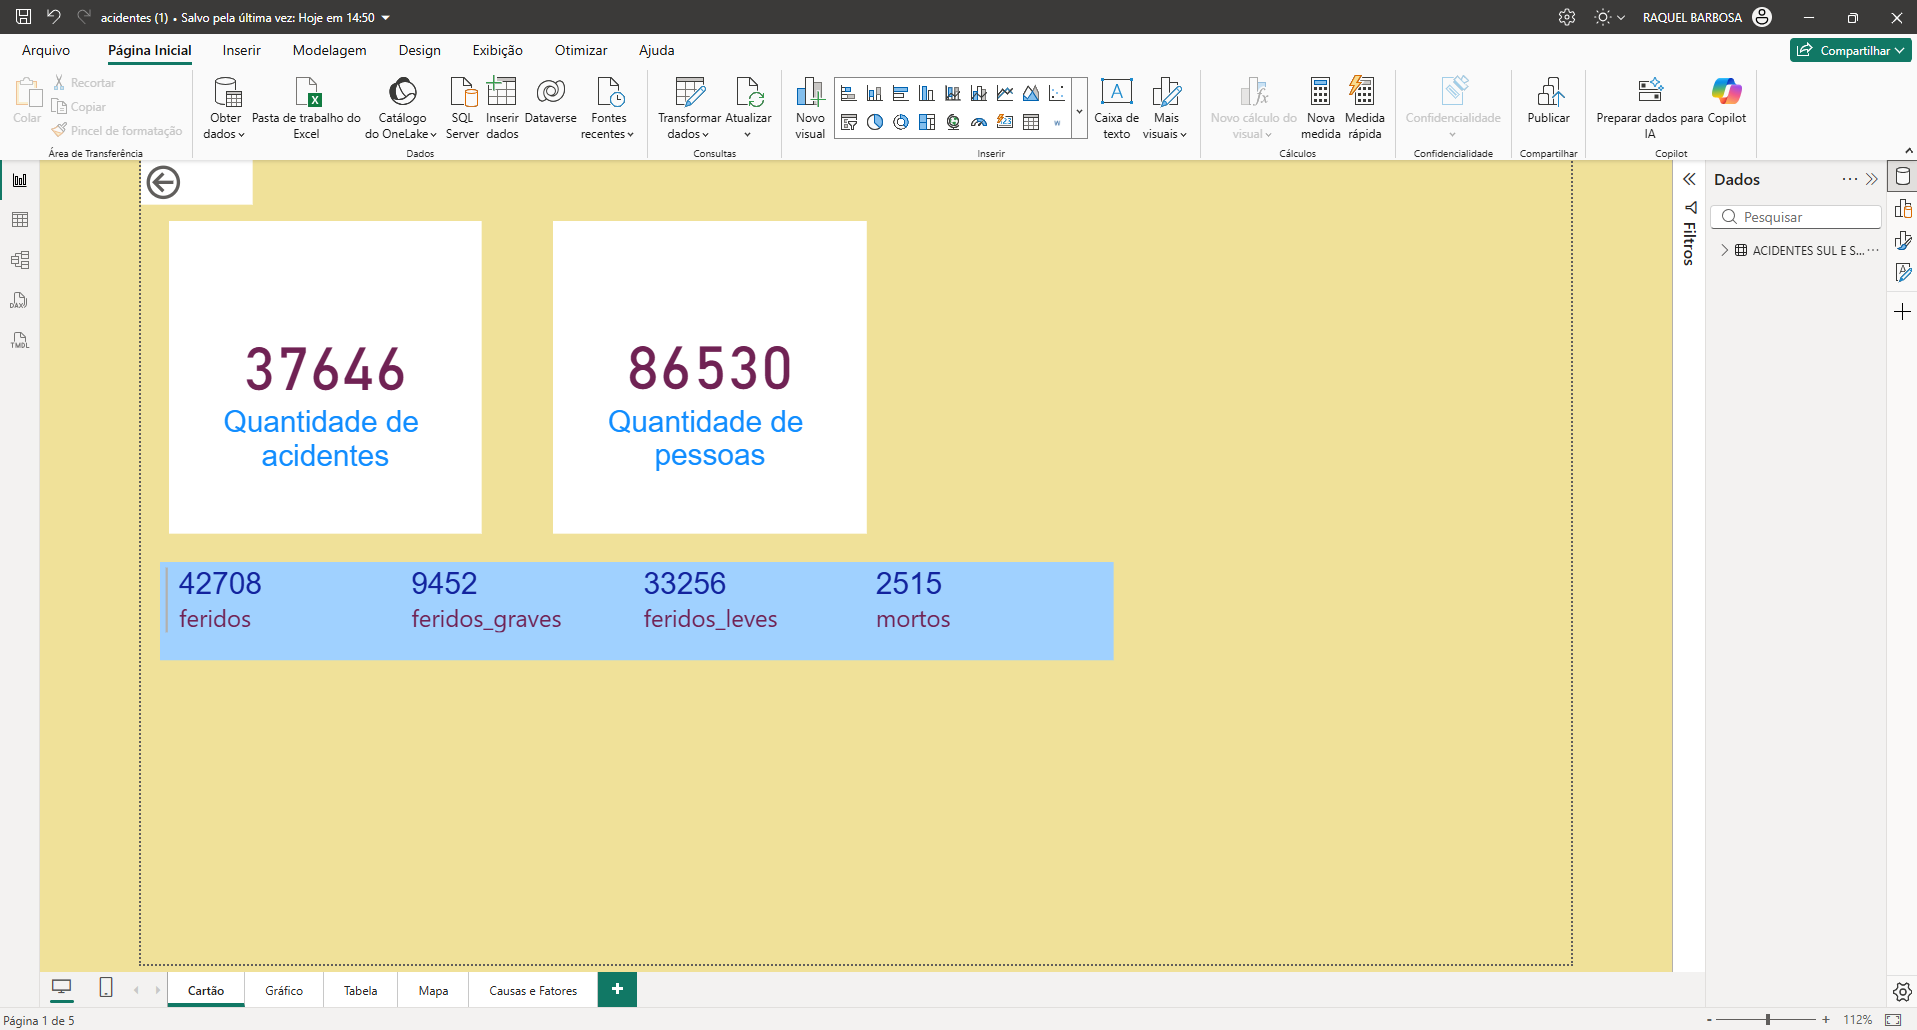

The dashboard page shown, as its layout file describes it:
{"tool":"powerbi","page":{"name":"Cartão","canvas":[1280,720],"ordinal":0},"visuals":[{"type":"card","fields":{"Values":["ACIDENTES SUL E SUDESTE.QT_ACID"]},"box":[24.9,54.9,280,280],"z":0},{"type":"actionButton","box":[0,0,100,40],"z":1000},{"type":"card","fields":{"Values":["Sum(ACIDENTES SUL E SUDESTE.pessoas)"]},"box":[369.3,54.4,281,279.5],"z":2000},{"type":"multiRowCard","fields":{"Values":["Sum(ACIDENTES SUL E SUDESTE.feridos)","Sum(ACIDENTES SUL E SUDESTE.feridos_graves)","Sum(ACIDENTES SUL E SUDESTE.feridos_leves)","Sum(ACIDENTES SUL E SUDESTE.mortos)"]},"box":[17,360,854,88],"z":3000}]}

Visuals, with their boxes on the page's 1280x720 design canvas (x1, y1, x2, y2). These are canvas units, not pixel positions in the 1917x1030 screenshot, which may show the page scaled, cropped or inside an application window:
card - ACIDENTES SUL E SUDESTE.QT_ACID: crop(25, 55, 305, 335)
actionButton: crop(0, 0, 100, 40)
card - Sum(ACIDENTES SUL E SUDESTE.pessoas): crop(369, 54, 650, 334)
multiRowCard - Sum(ACIDENTES SUL E SUDESTE.feridos) x Sum(ACIDENTES SUL E SUDESTE.feridos_graves): crop(17, 360, 871, 448)
